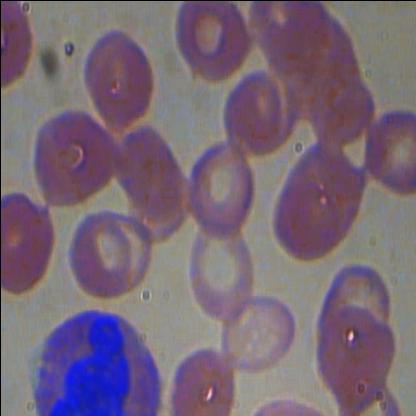RBC: (268, 136, 366, 266), (27, 104, 123, 215), (184, 211, 258, 325), (78, 26, 158, 130), (185, 139, 261, 237), (218, 60, 294, 156), (218, 286, 302, 372), (171, 1, 251, 86), (64, 207, 134, 299), (159, 339, 243, 415), (0, 192, 58, 294), (361, 99, 415, 198)
WBC: (19, 307, 171, 415)
